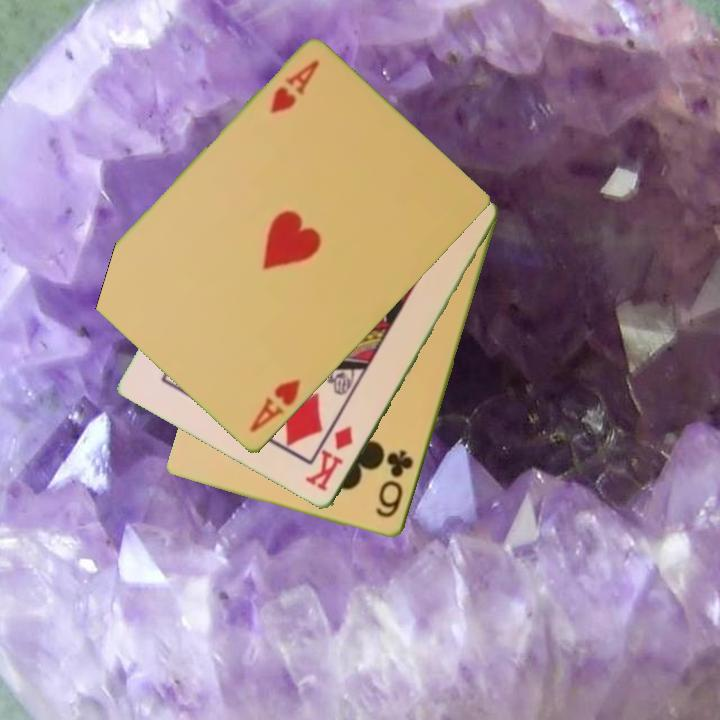6c: (372, 446, 417, 521)
Ah: (246, 376, 304, 436), (267, 57, 323, 118)
Kd: (304, 422, 357, 495)
